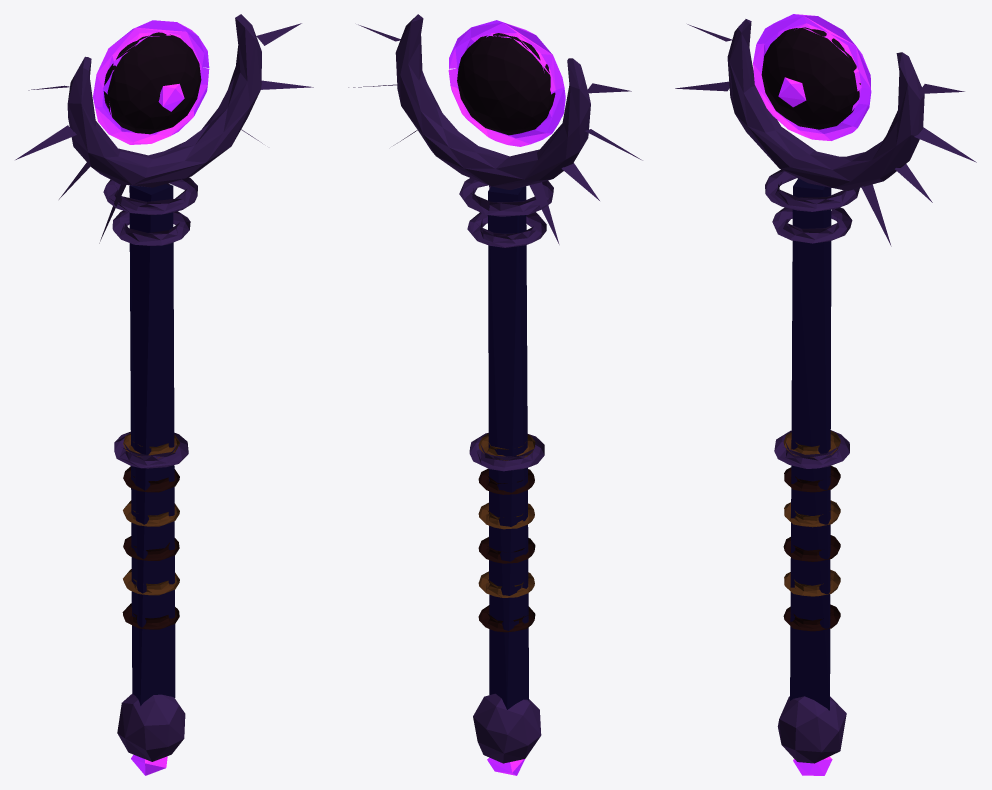
The model's file is wand_6.glb.
3 views of the same model, side by side, from view 1: azimuth 30°, elevation 25°; view 2: azimuth 150°, elevation 25°; view 3: azimuth 330°, elevation 25° (orthographic).
Visible parts, largest first — view 1: part_01, part_15, part_13, part_14, part_11, part_10, part_09, part_08, part_02, part_03, part_04, part_05 (+1 smaller); view 2: part_01, part_15, part_13, part_14, part_11, part_10, part_09, part_08, part_02, part_03, part_04, part_06 (+1 smaller); view 3: part_01, part_15, part_13, part_14, part_11, part_10, part_09, part_08, part_02, part_03, part_04, part_06 (+3 smaller).
Part boxes in pixels (x1,y1,x2,y2): part_01: [129, 184, 175, 705]; part_15: [67, 14, 261, 187]; part_13: [103, 32, 201, 134]; part_14: [93, 20, 209, 144]; part_11: [117, 693, 185, 761]; part_10: [103, 177, 197, 214]; part_09: [112, 210, 190, 245]; part_08: [114, 431, 188, 468]; part_02: [122, 603, 179, 629]; part_03: [123, 569, 179, 595]; part_04: [123, 536, 179, 560]; part_05: [123, 500, 179, 526]; part_01: [488, 186, 528, 709]; part_15: [395, 14, 590, 189]; part_13: [457, 33, 555, 135]; part_14: [448, 20, 565, 146]; part_11: [473, 693, 541, 763]; part_10: [459, 178, 553, 216]; part_09: [467, 212, 546, 247]; part_08: [469, 433, 544, 471]; part_02: [478, 605, 535, 632]; part_03: [478, 571, 534, 597]; part_04: [478, 537, 535, 563]; part_06: [478, 468, 534, 494]; part_01: [790, 178, 831, 710]; part_15: [727, 19, 924, 190]; part_13: [761, 27, 860, 129]; part_14: [753, 14, 871, 140]; part_11: [777, 696, 846, 763]; part_10: [765, 169, 859, 211]; part_09: [772, 207, 852, 243]; part_08: [774, 430, 849, 468]; part_02: [783, 604, 840, 631]; part_03: [784, 569, 840, 596]; part_04: [783, 535, 840, 561]; part_06: [784, 466, 840, 492].
Size of the model in its own units: 0.2753 by 0.6557 by 0.0758.
